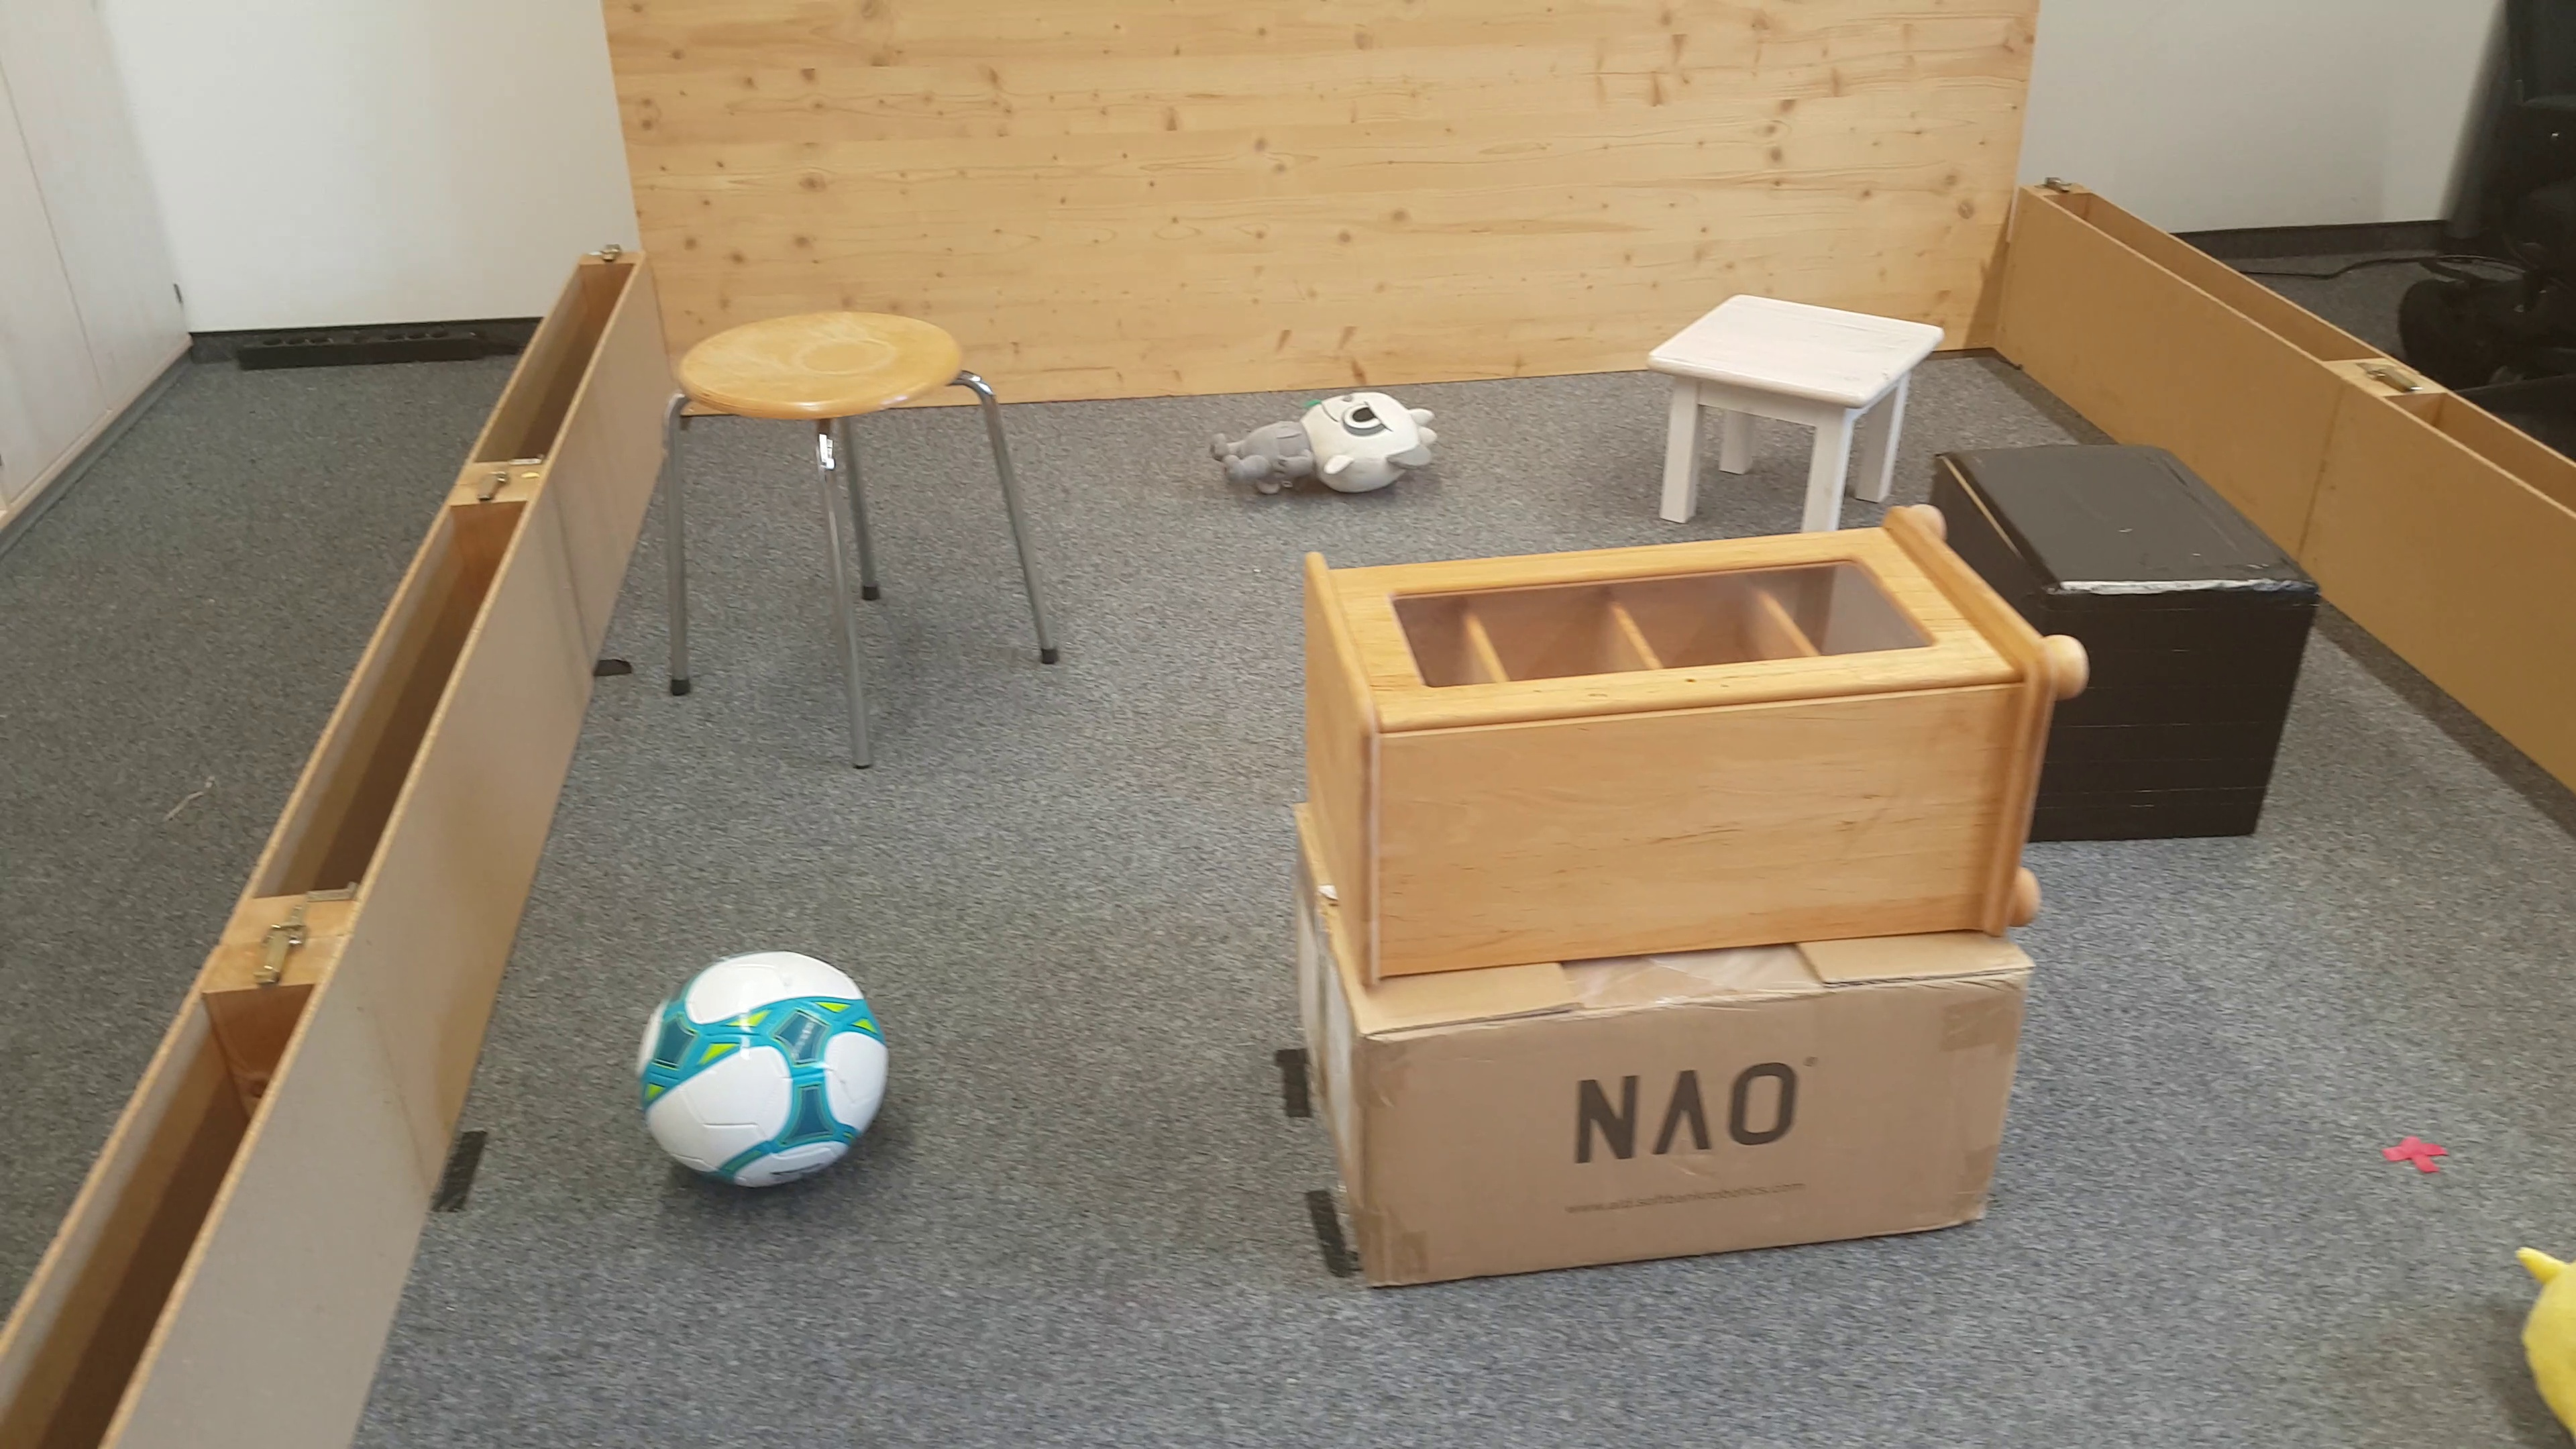grasp: (1221, 389, 1435, 510), (2509, 1240, 2576, 1437)
kick: (635, 950, 895, 1194)
push: (2088, 439, 2321, 849)
